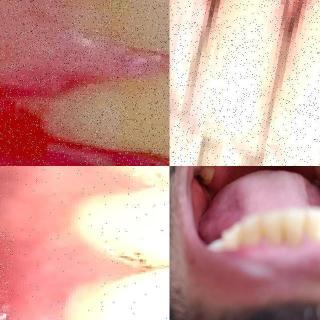Gum Swelling: (0, 62, 144, 166)
cavities: (194, 167, 206, 186)
stains: (110, 236, 158, 282)
